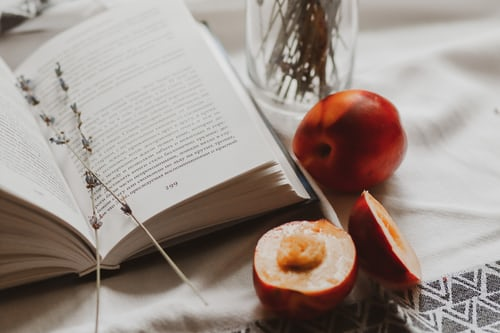apple: (291, 87, 408, 196)
